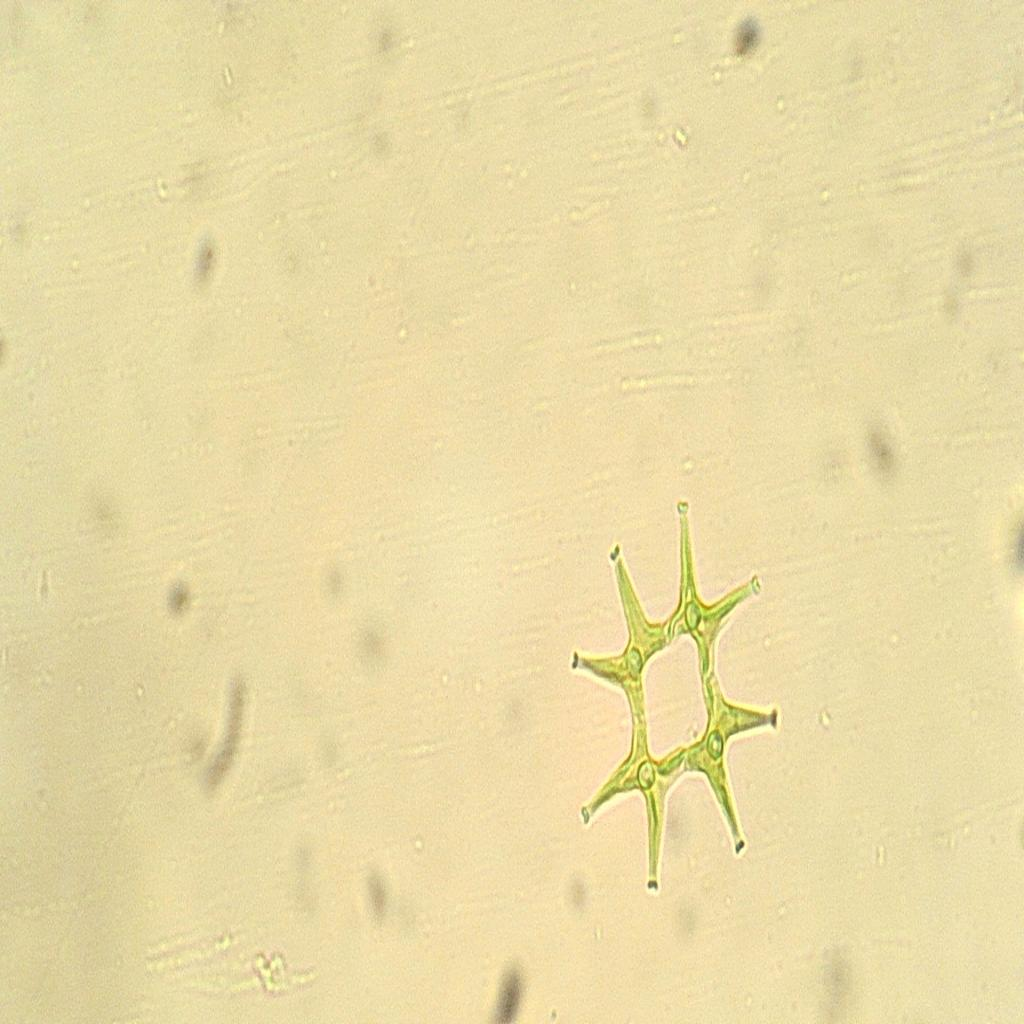Pediastrum_75O: (545, 471, 804, 901)
